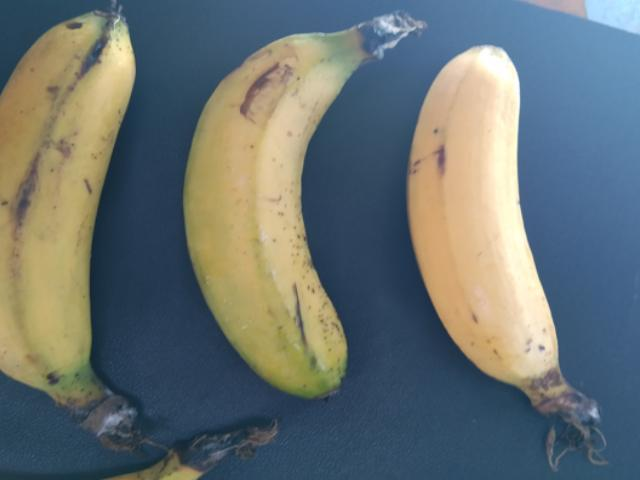freshripe: (398, 10, 565, 418)
ripe: (174, 30, 375, 454), (0, 12, 134, 363)
